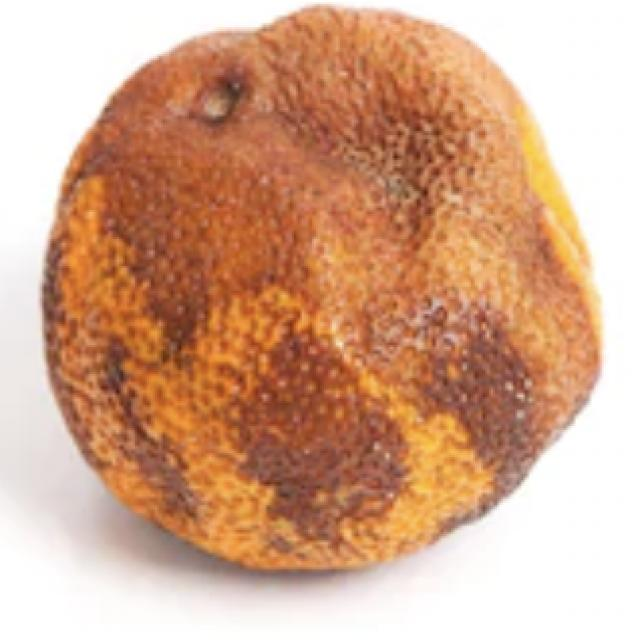rotten-orange: (41, 8, 600, 568)
